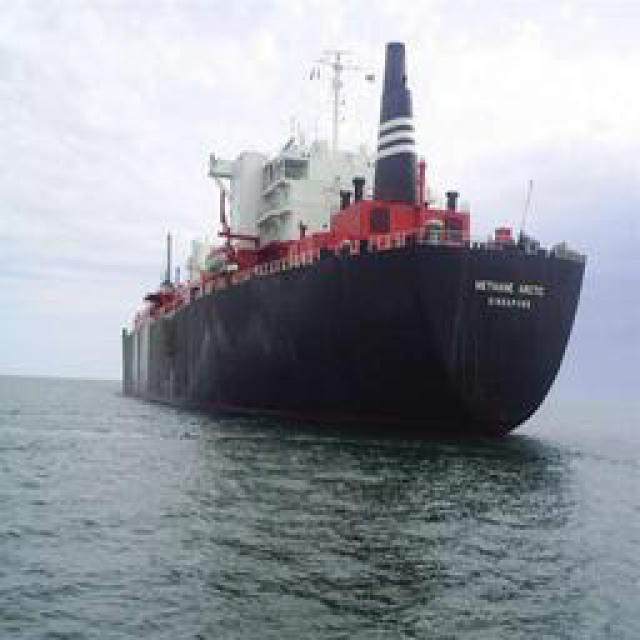Ship: (126, 39, 584, 429)
